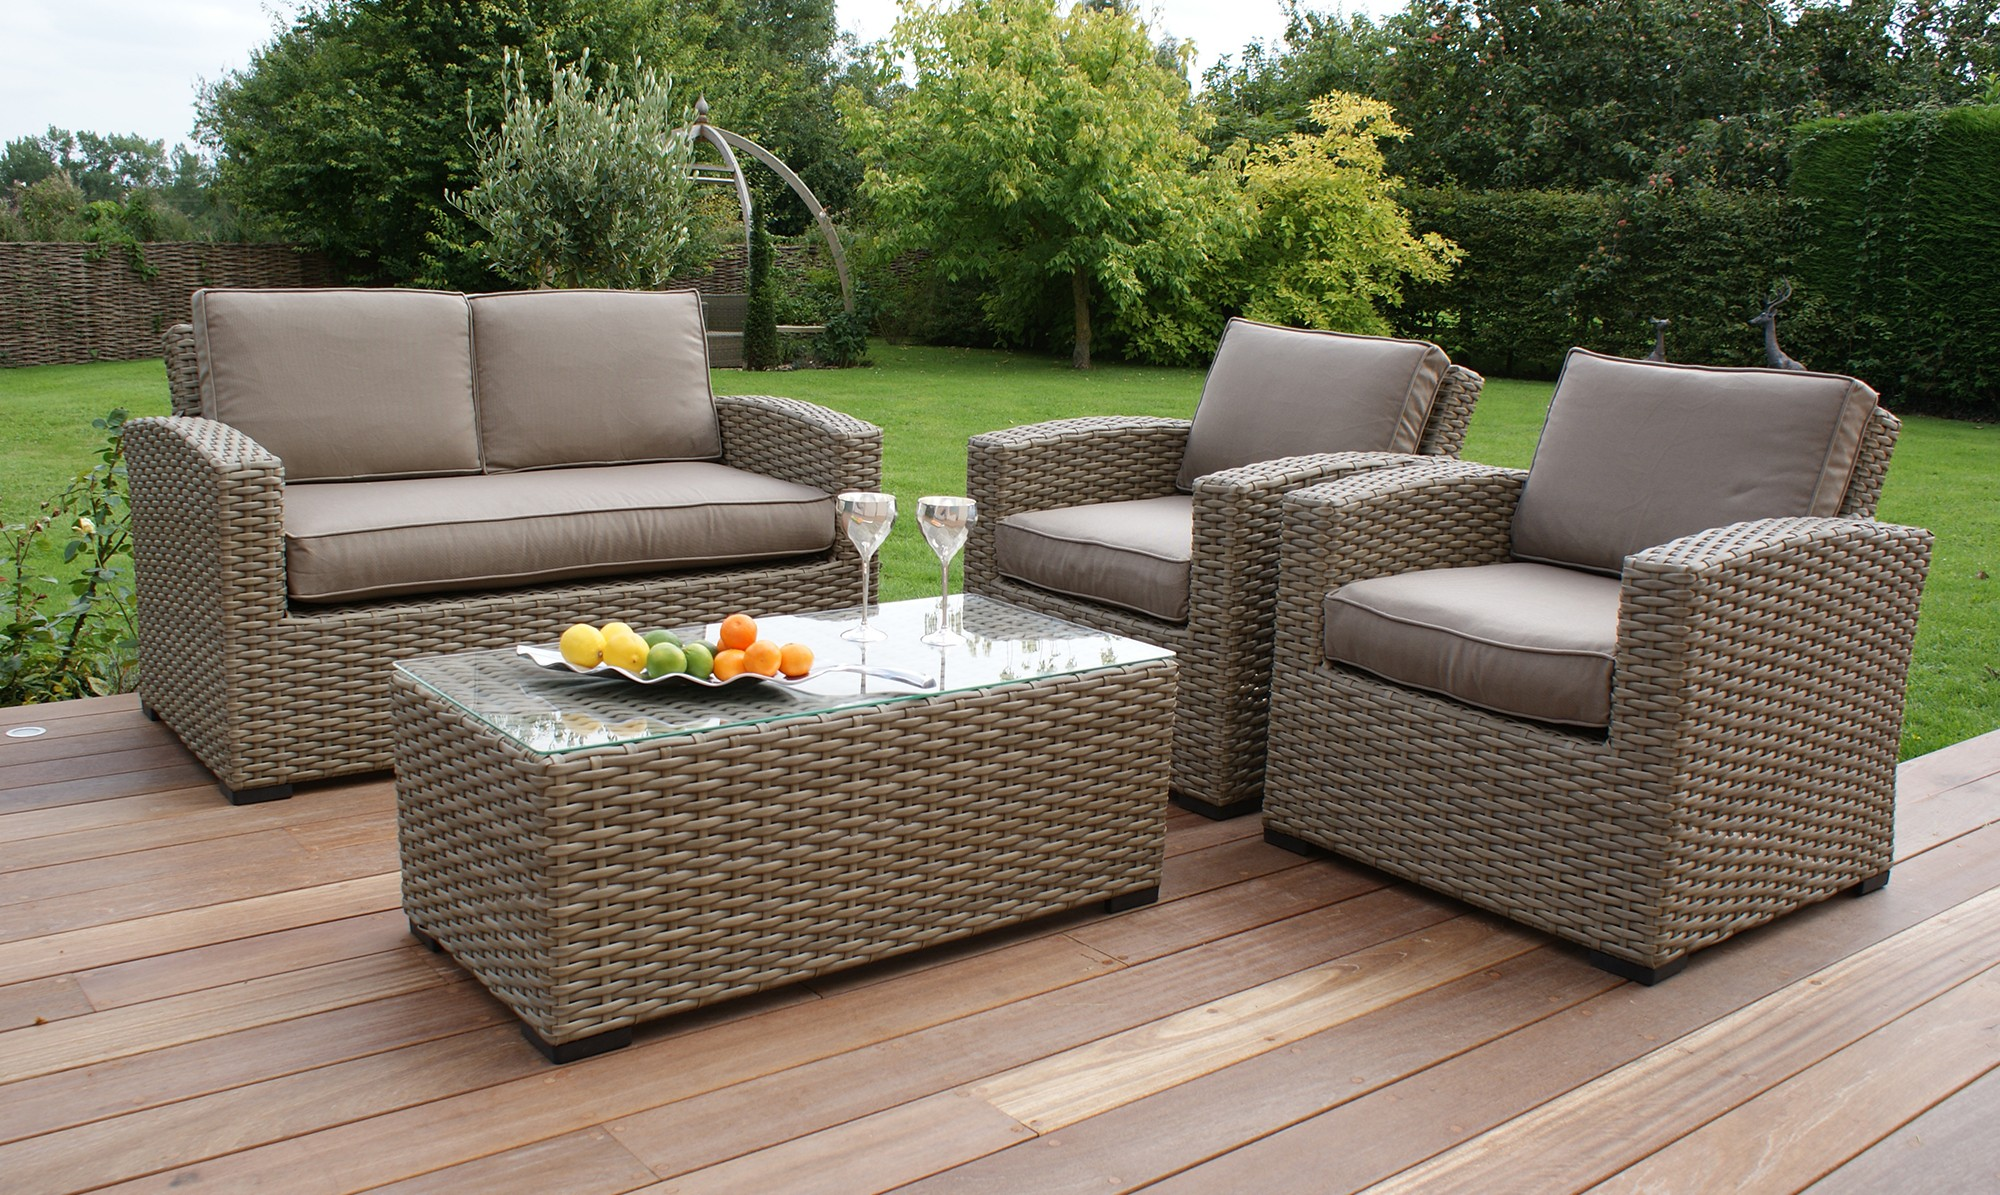chairs: (1276, 337, 1930, 977), (129, 283, 886, 809), (974, 312, 1481, 824)
